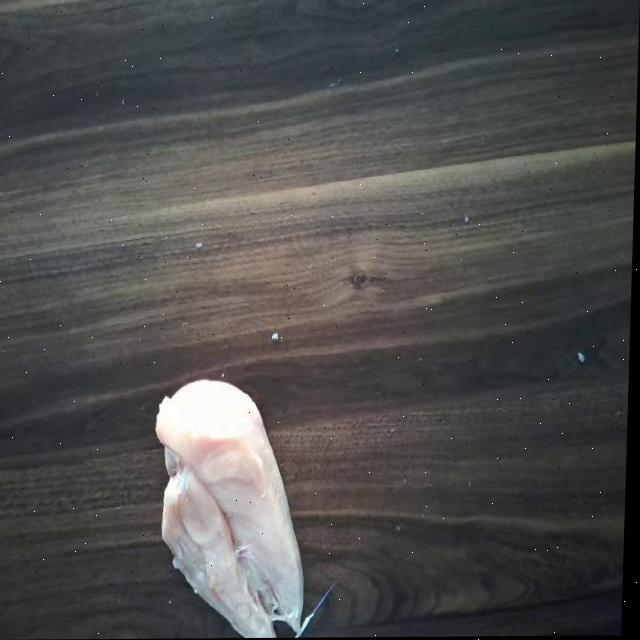breast: (154, 381, 324, 639)
